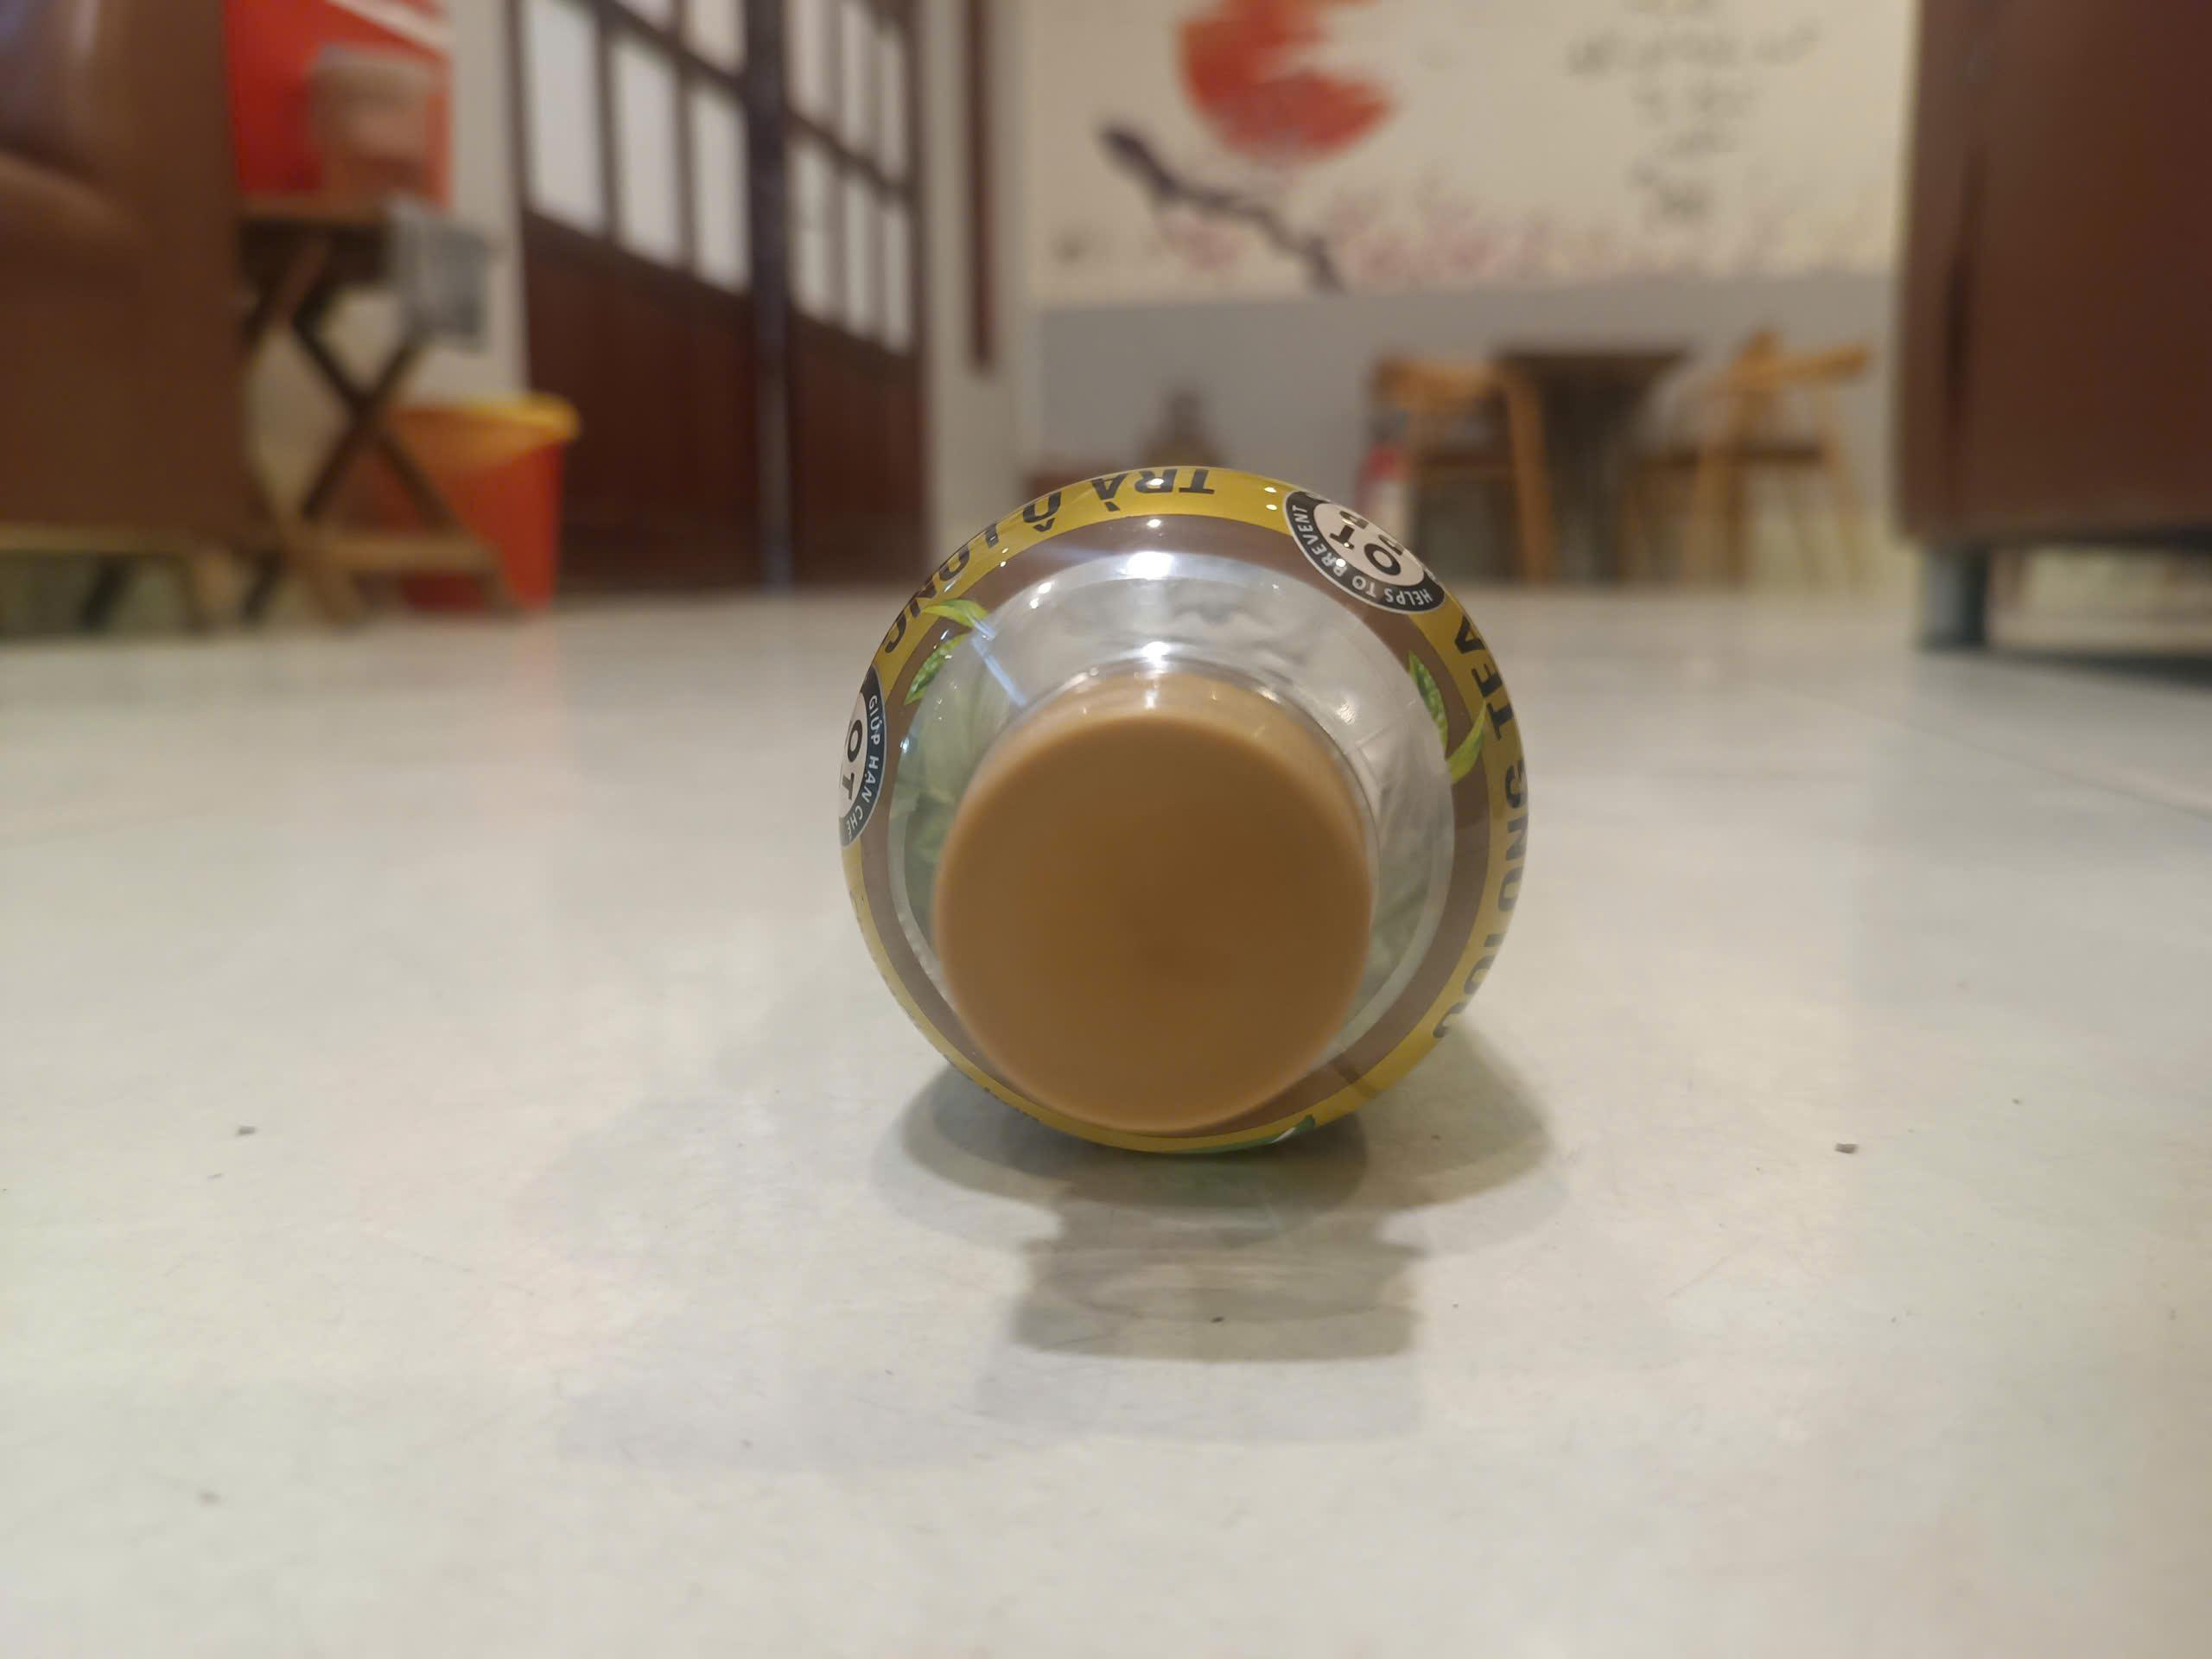Vo co: (841, 467, 1533, 1161)
